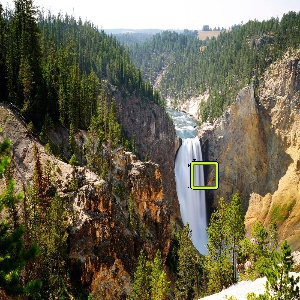square: (189, 161, 219, 191)
